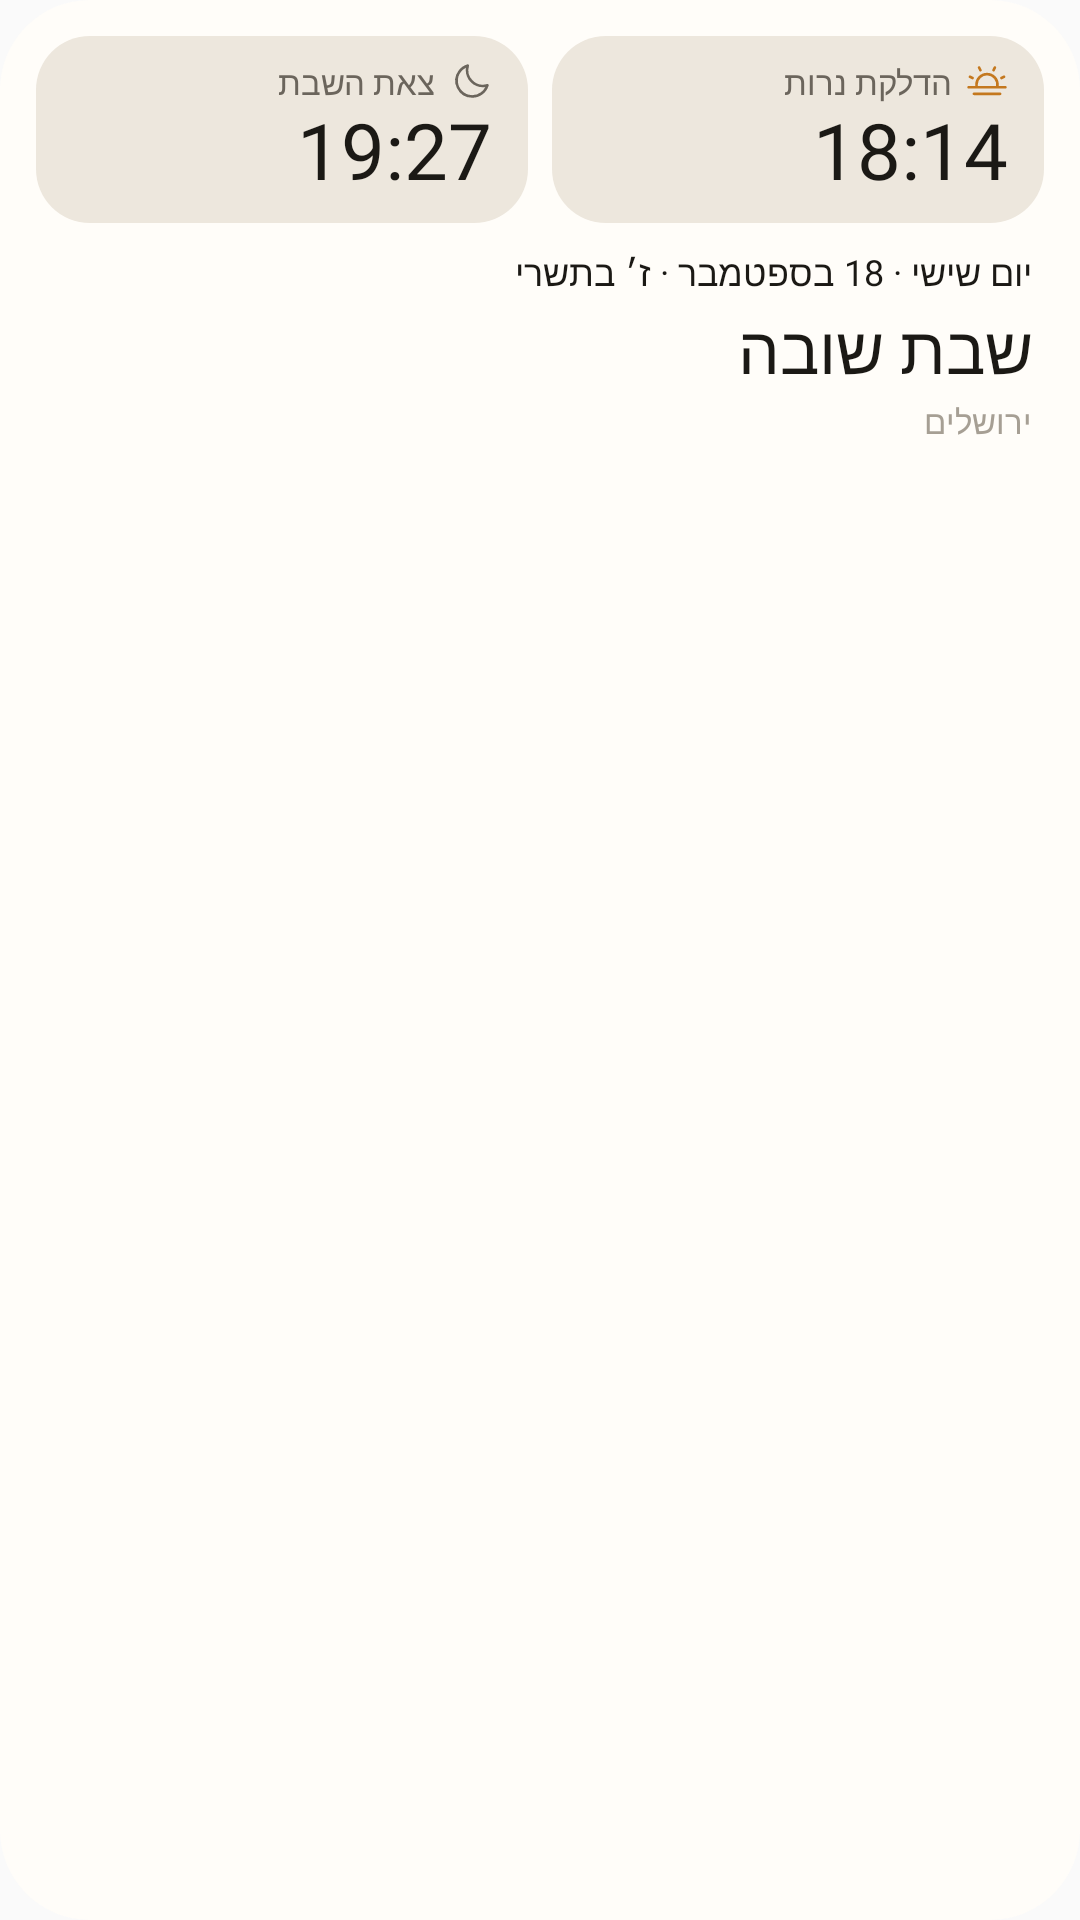

Named icons in this screenshot (1080px×1920px) and their centers, point (x, y):
widget moon: point (472, 81)
widget sunset: point (987, 81)
